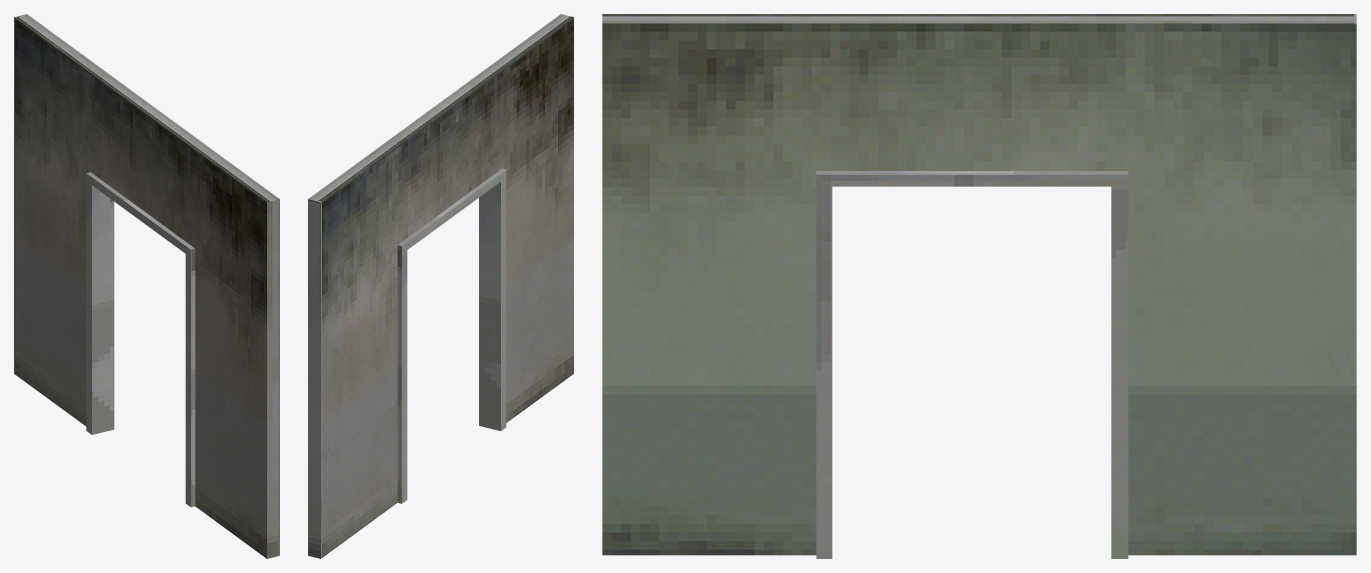
File: SM_PatientRoom_Doorway.fbx
The picture shows the model from 3 angles, left to right: view 1: azimuth 30°, elevation 25°; view 2: azimuth 150°, elevation 25°; view 3: azimuth 270°, elevation 25°; orthographic projection. The views are drawn at different scales.
Parts seen in each view (by area): view 1: SM_PatientRoom_Doorway; view 2: SM_PatientRoom_Doorway; view 3: SM_PatientRoom_Doorway.
Boxes of the visible parts, x1=… form: SM_PatientRoom_Doorway: x1=14, y1=14, x2=279, y2=558; SM_PatientRoom_Doorway: x1=308, y1=14, x2=573, y2=558; SM_PatientRoom_Doorway: x1=602, y1=14, x2=1356, y2=558.
Size of the model in its own units: 19.51 by 300 by 386.
